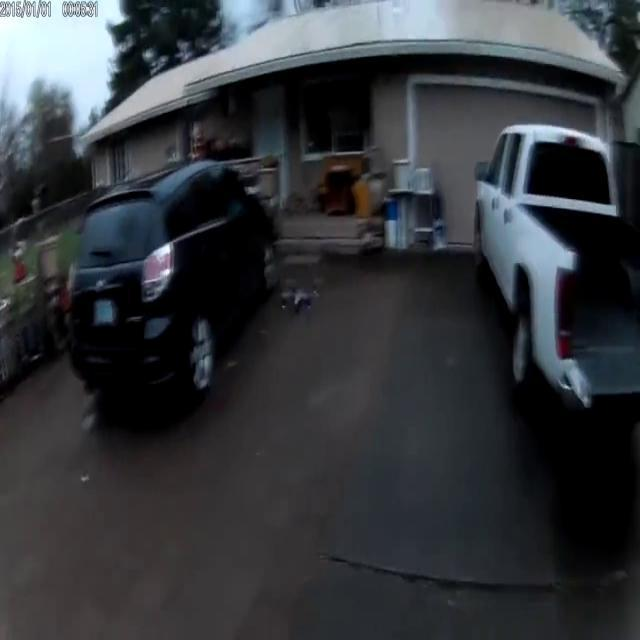Drons: (260, 278, 328, 320)
